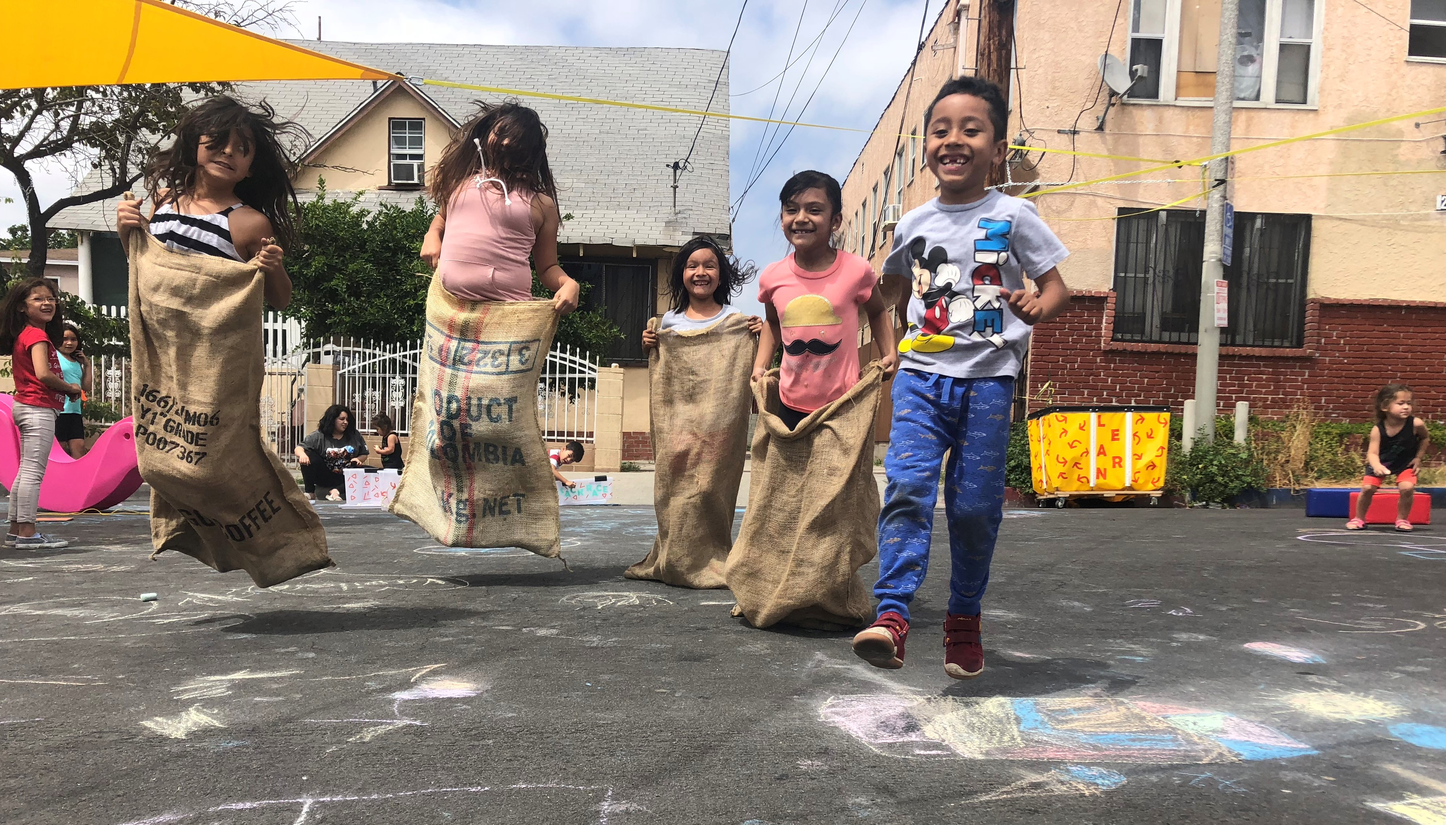Person: (858, 64, 1033, 713), (6, 274, 91, 550)
